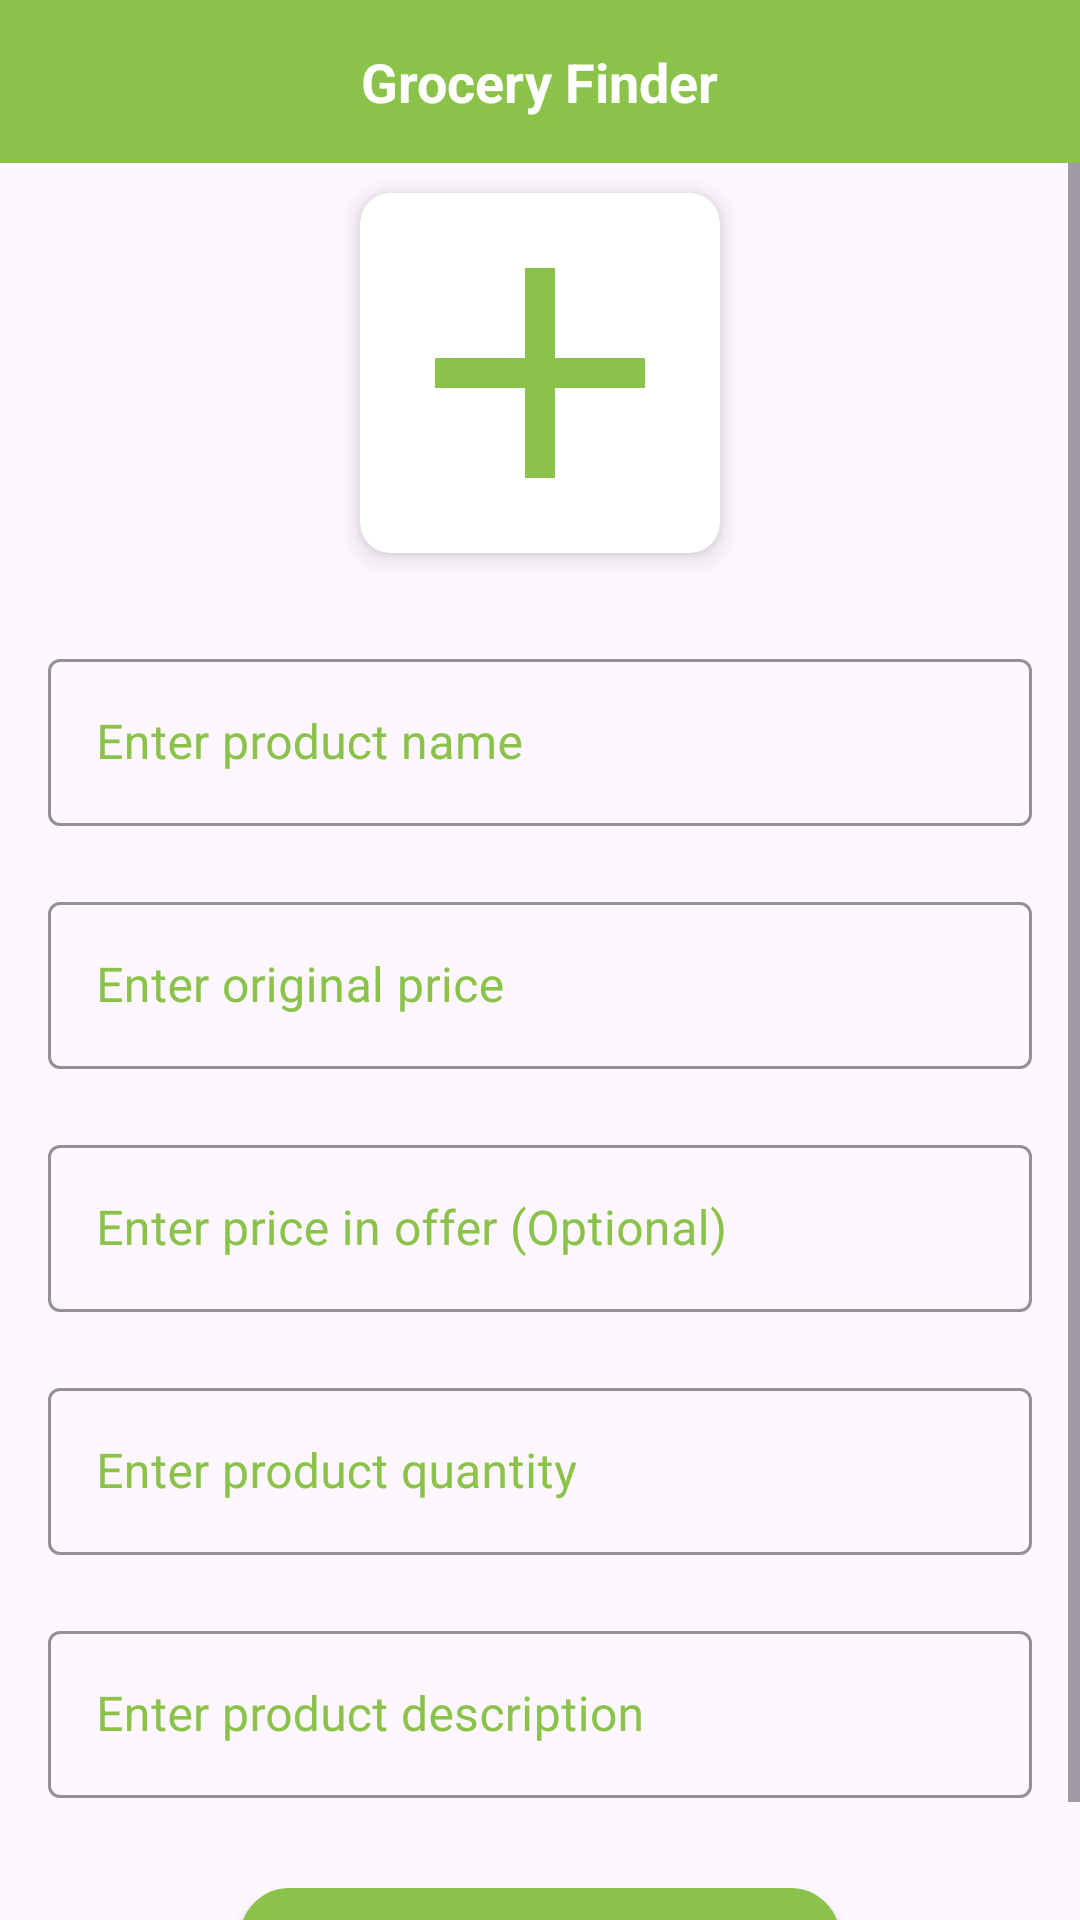

Screen size 1080px×1920px. Icon name, then its box in pixels as (x1, y1, x2, y2):
add: (360, 193, 720, 553)
